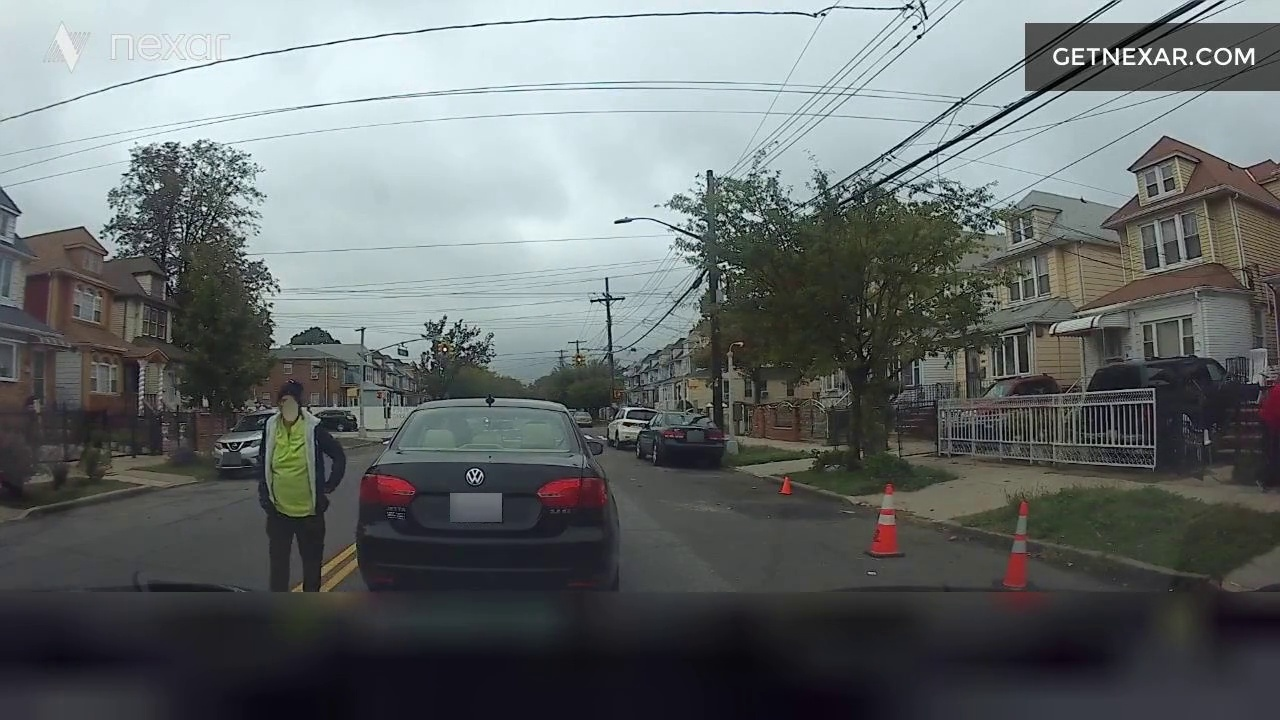car: (380, 371, 604, 621), (1078, 358, 1215, 480), (614, 396, 723, 480), (964, 365, 1051, 460), (225, 407, 280, 482), (314, 374, 363, 439)
person: (260, 386, 337, 594), (1246, 343, 1280, 498)
